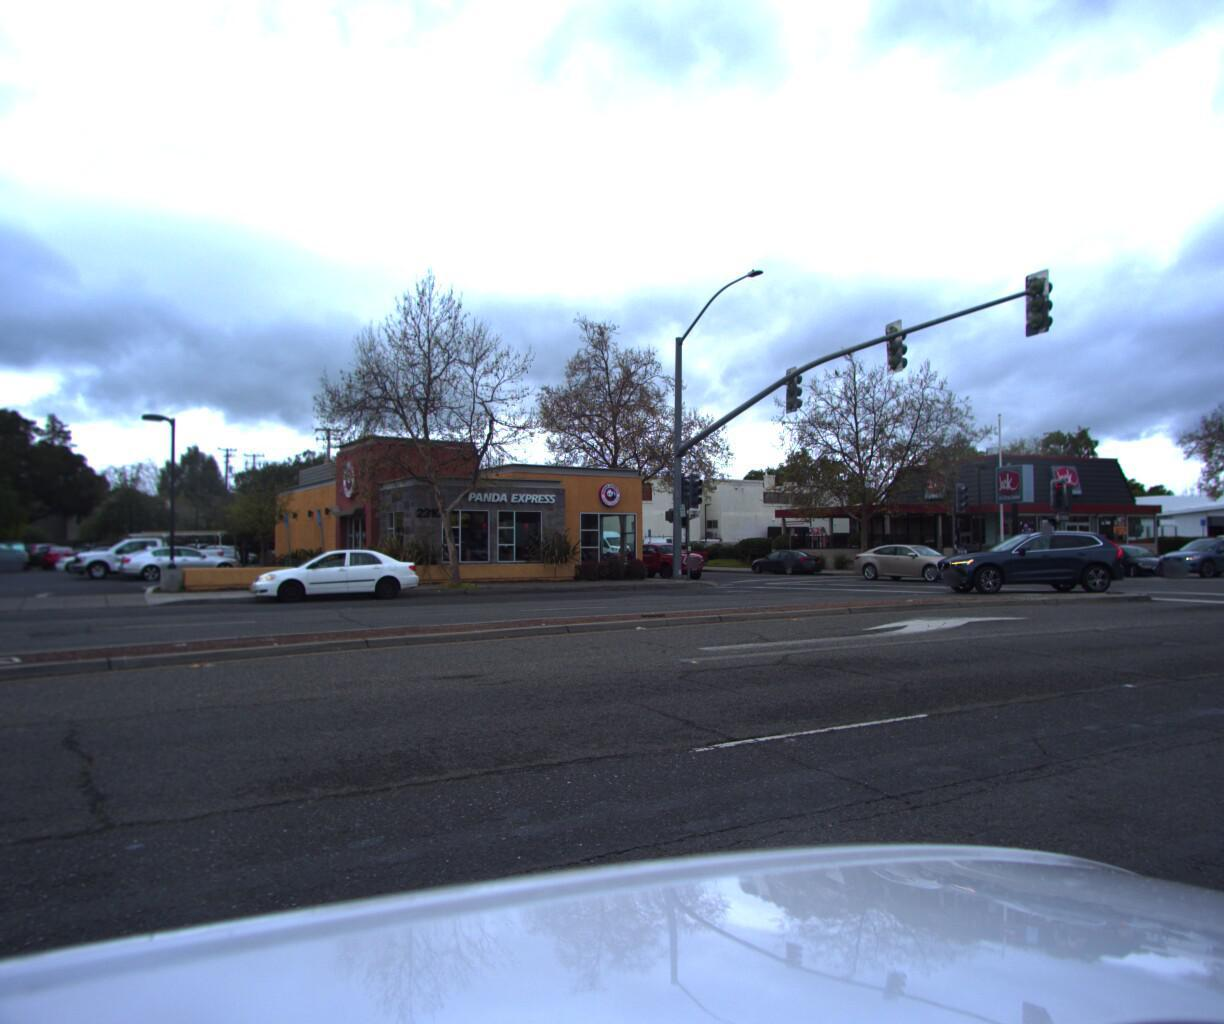car: (931, 535, 1133, 603), (251, 554, 429, 619), (849, 551, 981, 592), (607, 551, 710, 591), (1145, 543, 1224, 586), (638, 549, 711, 583), (747, 557, 823, 587)
